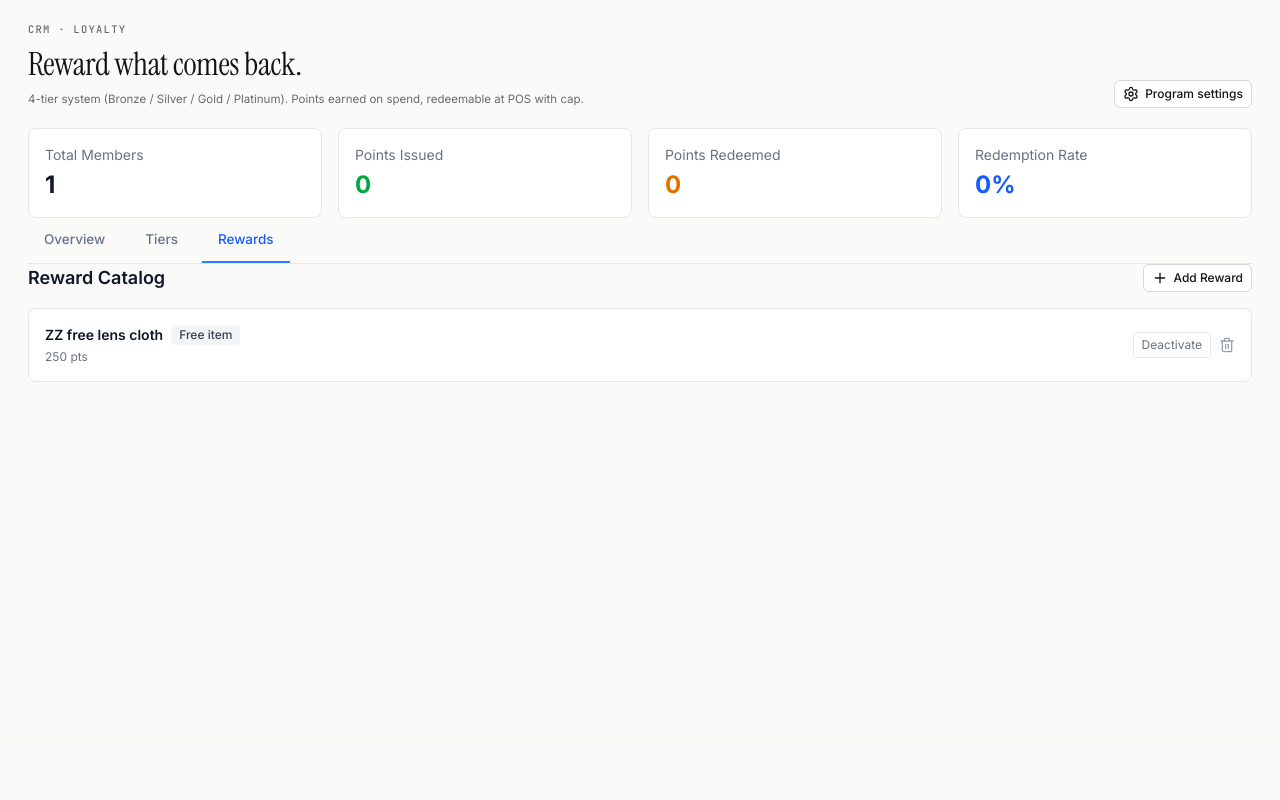
Test case: add reward › clears the draft after a successful add: reopening starts blank
Expected: the text "ZZ free lens cloth" is shown, [45, 325, 163, 345]
Click the button "Add Reward". click: (1197, 278)
box: [1142, 264, 1252, 292]
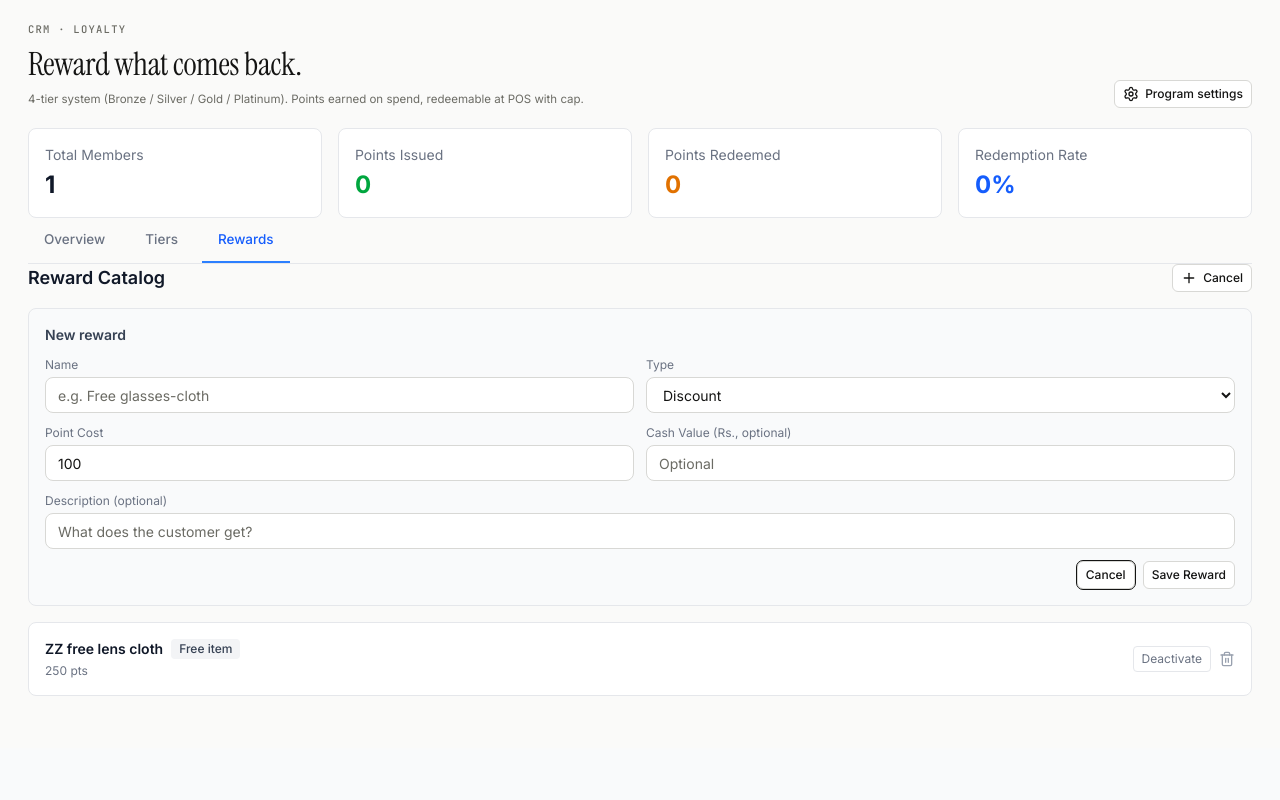
Type "ZZ new voucher" into the field with placeholder "e.g. Free glasses-cloth". click: (340, 395)
box: [45, 377, 634, 413]
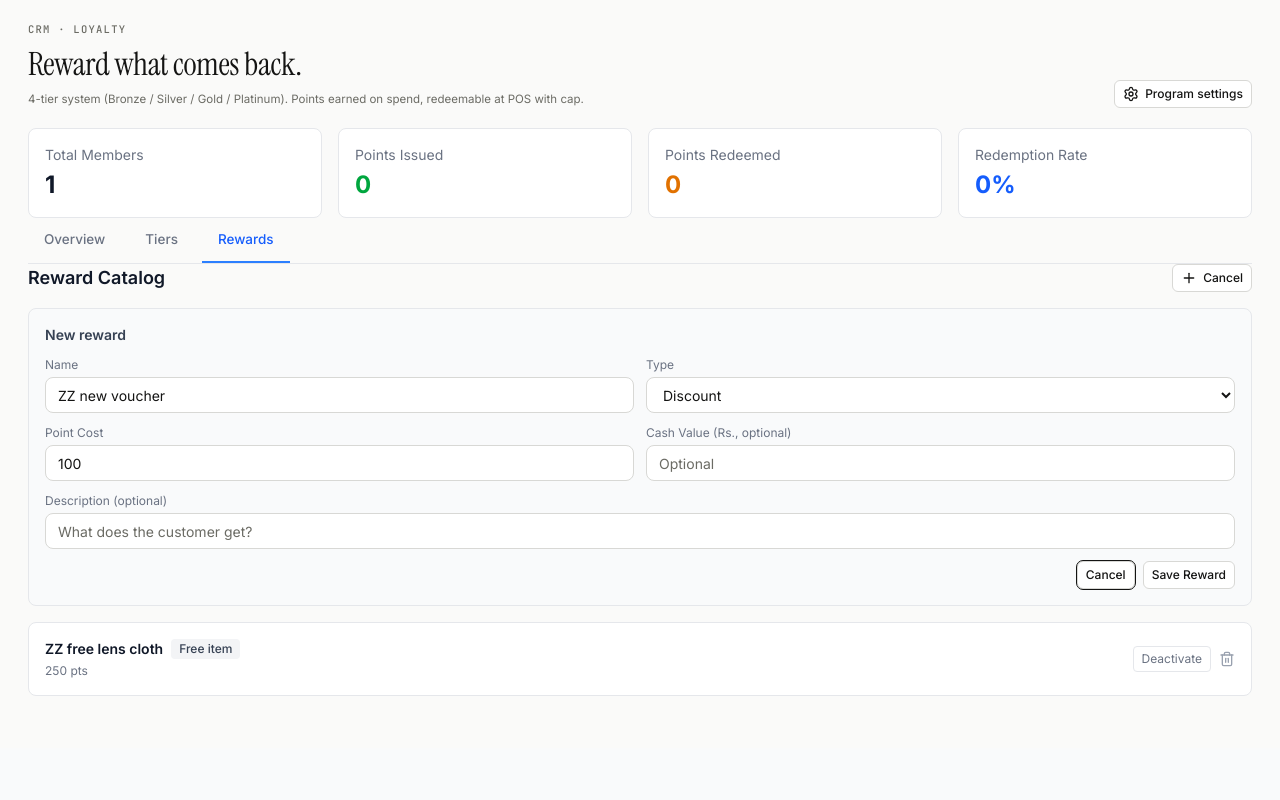
Replace the text in the 1st number field with "640". click: (340, 463)
box: [45, 445, 634, 481]
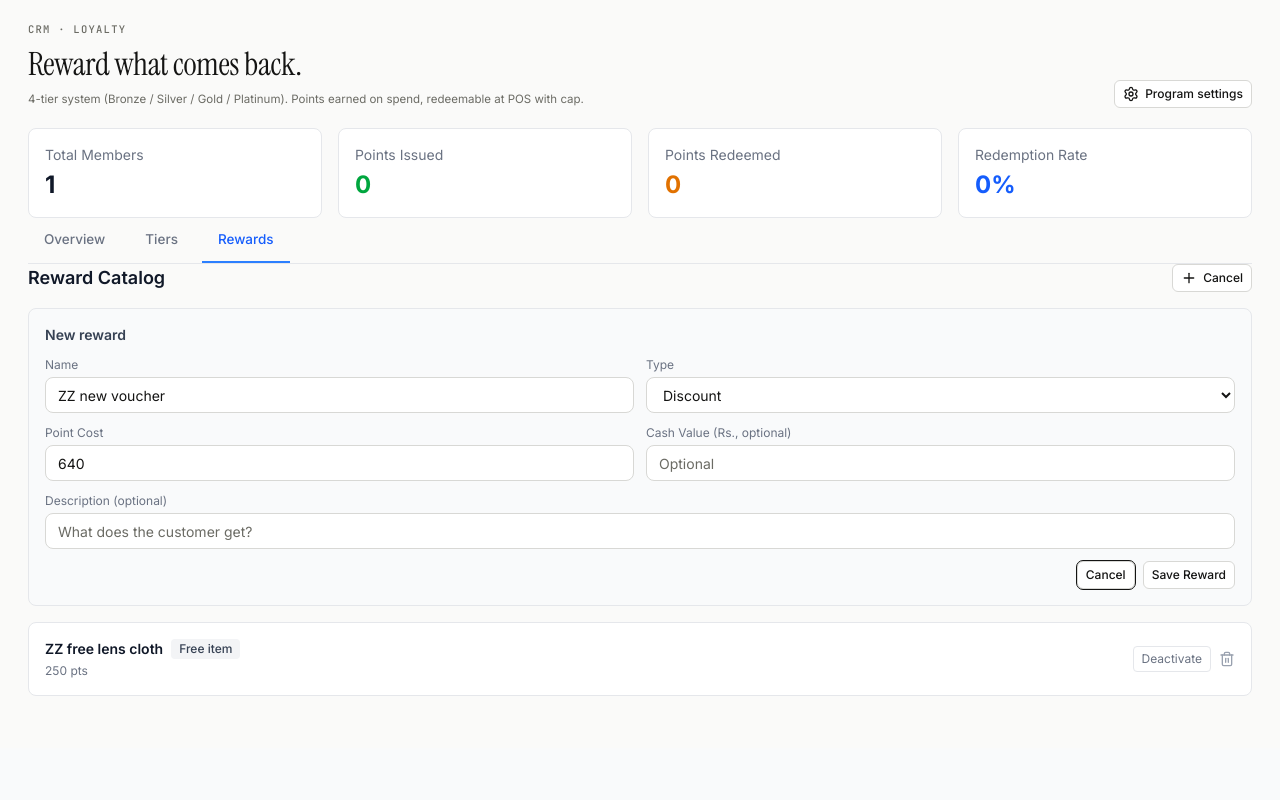
Click the button "Save Reward". click: (1189, 575)
box: [1143, 561, 1235, 589]
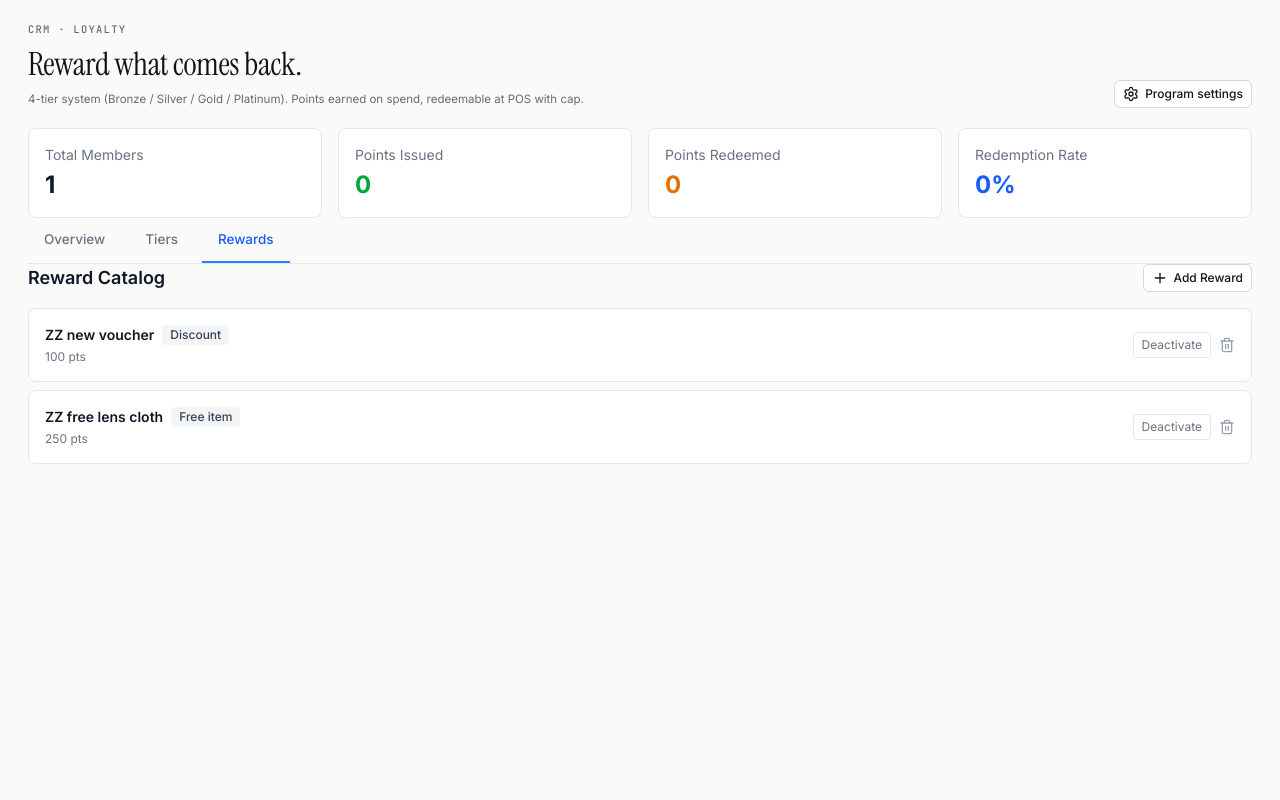
Now the text "ZZ new voucher" is shown, box [45, 325, 154, 345]
Now the text "New reward" is gone
Click the button "Add Reward". click: (1197, 278)
box: [1142, 264, 1252, 292]
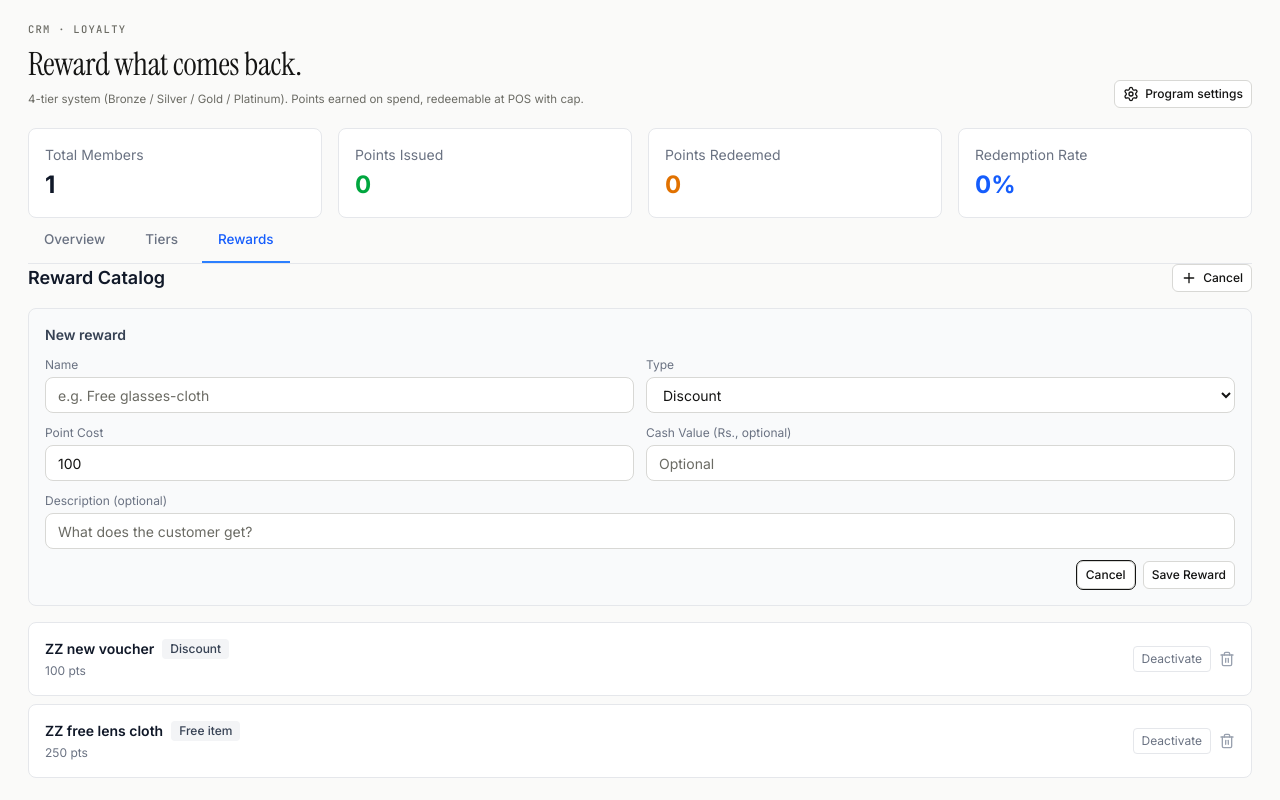
Now the field with placeholder "e.g. Free glasses-cloth" is empty, box [45, 377, 634, 413]
Now the 1st number field holds "100", box [45, 445, 634, 481]
